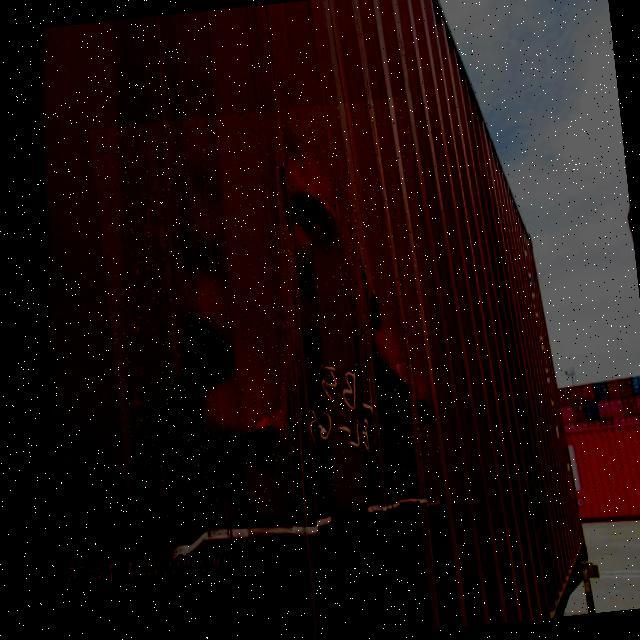Dent: (90, 97, 448, 532)
